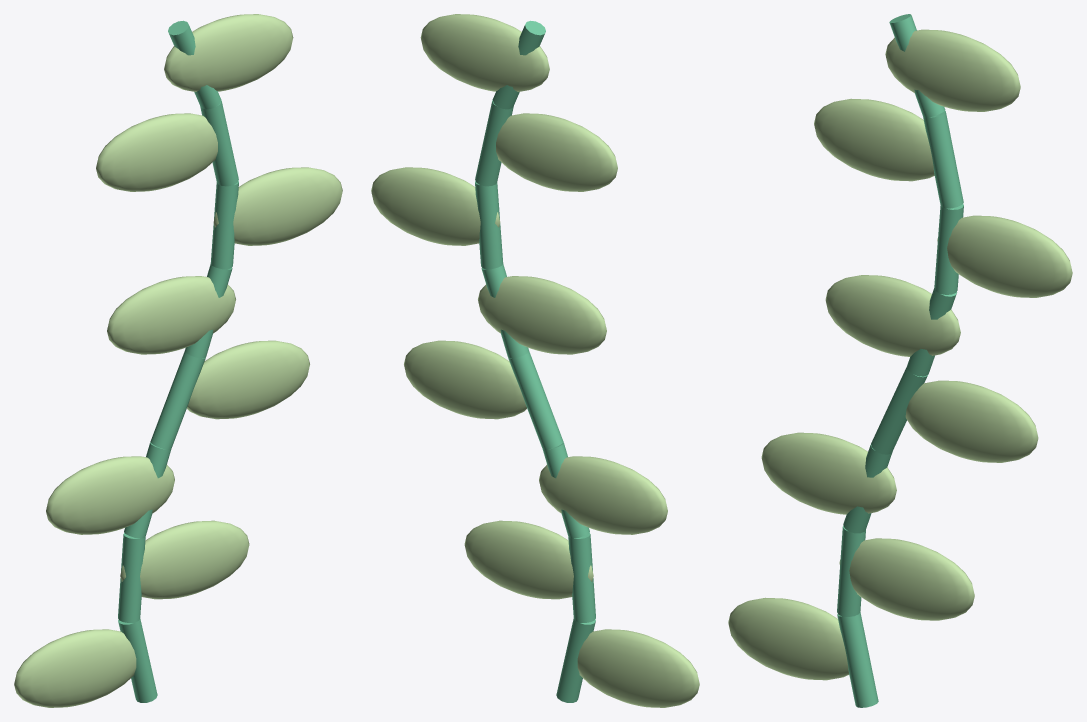
Rendered from st_rain_vine.glb.
3 renders of one model, left to right at view 1: azimuth 30°, elevation 25°; view 2: azimuth 150°, elevation 25°; view 3: azimuth 330°, elevation 25°, orthographic. The views are drawn at different scales.
Parts seen in each view (by area): view 1: Hanging_Vine; view 2: Hanging_Vine; view 3: Hanging_Vine.
Boxes of the visible parts, x1,y1,x2,y2 form: Hanging_Vine: [14, 14, 342, 707]; Hanging_Vine: [371, 14, 699, 707]; Hanging_Vine: [728, 14, 1072, 707].
Bounding box in the file's own units: 0.9155 × 1.78 × 0.08.
